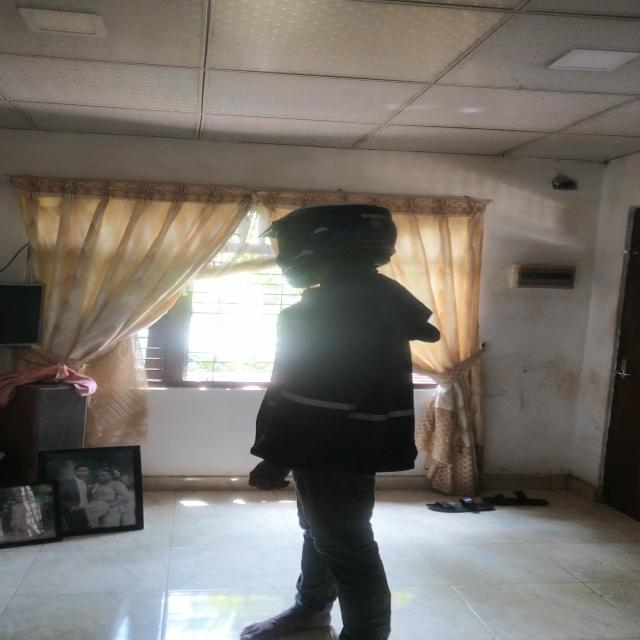Helmet_Wearer: (261, 202, 410, 291)
Jacket_Wearer: (236, 281, 456, 505)
Person: (243, 202, 450, 640)
